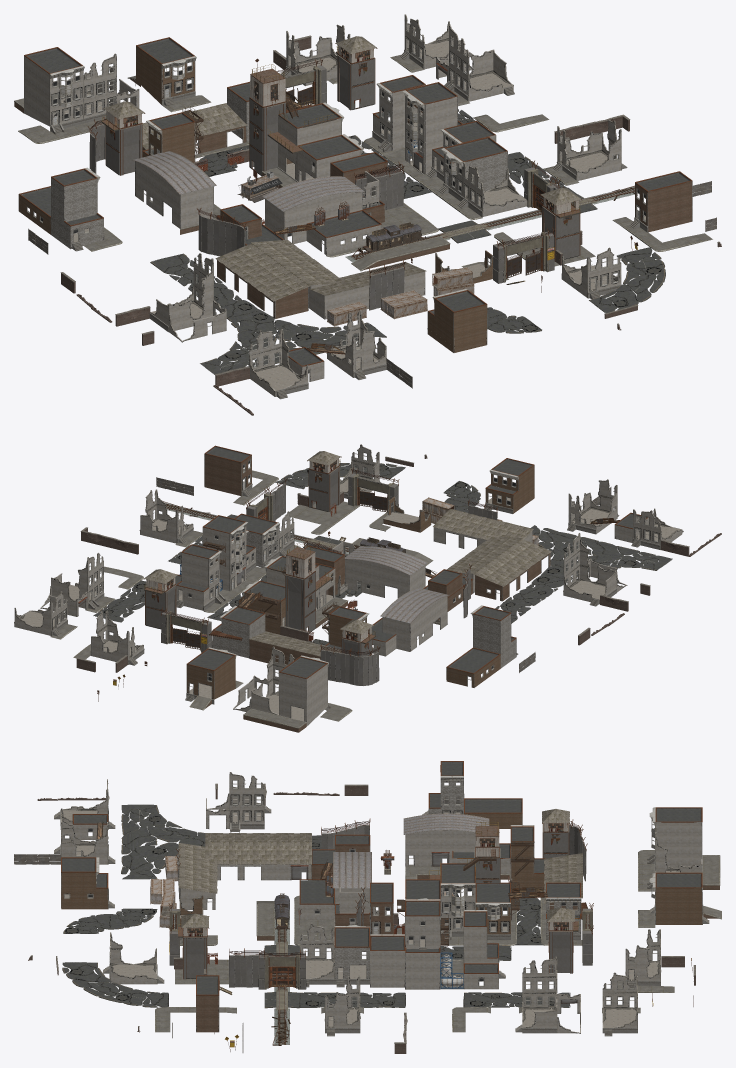
The model's file is compound-close.glb.
3 views of the same model, one above another, from view 1: azimuth 30°, elevation 25°; view 2: azimuth 150°, elevation 25°; view 3: azimuth 270°, elevation 25° (orthographic). The views are drawn at different scales.
Visible parts, largest first — view 1: outbuilding_1st_6x9_LOD0 (×2), watch_tower_d_LOD0, spheretank_walkway_e_LOD0, loading_platform_slope, outbuilding_1st_15x9_LOD0, compound_wall_corner_LOD0, road_nopavement_9x15_railway_LOD0, rowhouse_2st_9x12_LOD0, rowhouse_2st_6x12_LOD0, outbuilding_2st_21x9_LOD0, wall_300x300_LOD0, compound_gate_LOD0 (+6 smaller); view 2: outbuilding_1st_6x9_LOD0 (×2), watch_tower_d_LOD0, spheretank_walkway_e_LOD0, loading_platform_slope, outbuilding_1st_15x9_LOD0, compound_wall_corner_LOD0, rowhouse_2st_9x12_LOD0, road_nopavement_9x15_railway_LOD0, rowhouse_2st_6x12_LOD0, wall_300x300_LOD0, outbuilding_2st_21x9_LOD0, compound_gate_LOD0 (+6 smaller); view 3: outbuilding_1st_6x9_LOD0 (×2), watch_tower_d_LOD0, spheretank_walkway_e_LOD0, loading_platform_slope, road_nopavement_9x15_railway_LOD0, outbuilding_1st_15x9_LOD0, compound_wall_corner_LOD0, rowhouse_2st_6x12_LOD0, outbuilding_2st_21x9_LOD0, wall_300x300_LOD0, rowhouse_2st_9x12_LOD0, substation_b_LOD0 (+10 smaller).
Boxes of the visible parts, x1,y1,x2,y2 form: outbuilding_1st_6x9_LOD0 (×2): (14, 14, 692, 399); watch_tower_d_LOD0: (61, 36, 616, 379); spheretank_walkway_e_LOD0: (18, 14, 692, 391); loading_platform_slope: (14, 52, 712, 280); outbuilding_1st_15x9_LOD0: (18, 46, 492, 352); compound_wall_corner_LOD0: (87, 58, 563, 309); road_nopavement_9x15_railway_LOD0: (150, 111, 665, 374); rowhouse_2st_9x12_LOD0: (51, 88, 507, 248); rowhouse_2st_6x12_LOD0: (53, 40, 645, 390); outbuilding_2st_21x9_LOD0: (133, 151, 364, 211); wall_300x300_LOD0: (60, 35, 721, 415); compound_gate_LOD0: (285, 66, 598, 282); outbuilding_1st_6x9_LOD0 (×2): (14, 445, 683, 732); watch_tower_d_LOD0: (20, 451, 670, 695); spheretank_walkway_e_LOD0: (14, 444, 681, 721); loading_platform_slope: (50, 468, 439, 728); outbuilding_1st_15x9_LOD0: (186, 465, 534, 699); compound_wall_corner_LOD0: (160, 467, 497, 685); rowhouse_2st_9x12_LOD0: (213, 527, 516, 668); road_nopavement_9x15_railway_LOD0: (95, 463, 671, 645); rowhouse_2st_6x12_LOD0: (21, 477, 680, 721); wall_300x300_LOD0: (76, 454, 721, 672); outbuilding_2st_21x9_LOD0: (344, 546, 449, 623); compound_gate_LOD0: (165, 474, 393, 652); outbuilding_1st_6x9_LOD0 (×2): (54, 761, 719, 1036); watch_tower_d_LOD0: (75, 803, 679, 1027); spheretank_walkway_e_LOD0: (61, 772, 702, 1033); loading_platform_slope: (155, 849, 721, 1032); road_nopavement_9x15_railway_LOD0: (62, 804, 570, 1045); outbuilding_1st_15x9_LOD0: (61, 813, 702, 934); compound_wall_corner_LOD0: (168, 818, 593, 989); rowhouse_2st_6x12_LOD0: (62, 810, 679, 1027); outbuilding_2st_21x9_LOD0: (333, 813, 489, 888); wall_300x300_LOD0: (28, 783, 695, 1053); rowhouse_2st_9x12_LOD0: (334, 780, 580, 978); substation_b_LOD0: (181, 823, 575, 979).
Size of the model in its own units: 157 by 35.46 by 181.
Materials: 59 (59 with a texture image).
